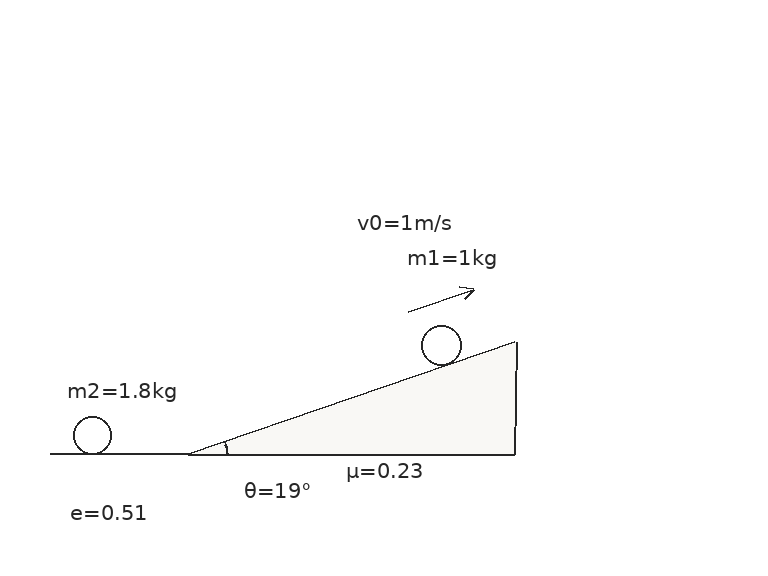ball: (419, 323, 463, 367), (71, 414, 113, 456)
ramp: (185, 339, 517, 456)
